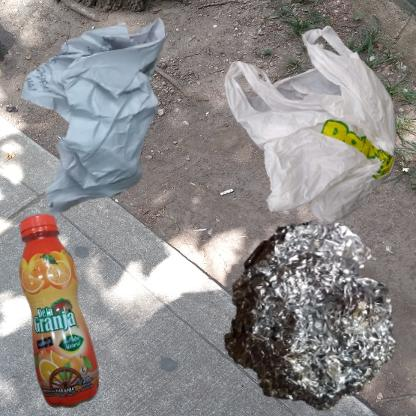aluminio: (213, 213, 403, 416)
bolsa: (213, 10, 416, 272)
botella: (10, 213, 111, 416)
papel: (10, 10, 199, 233)
